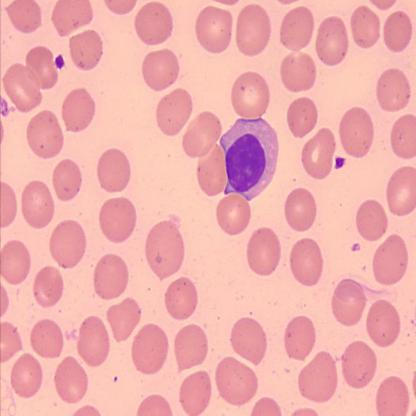Atypical lymphocyte: (220, 114, 278, 201)
